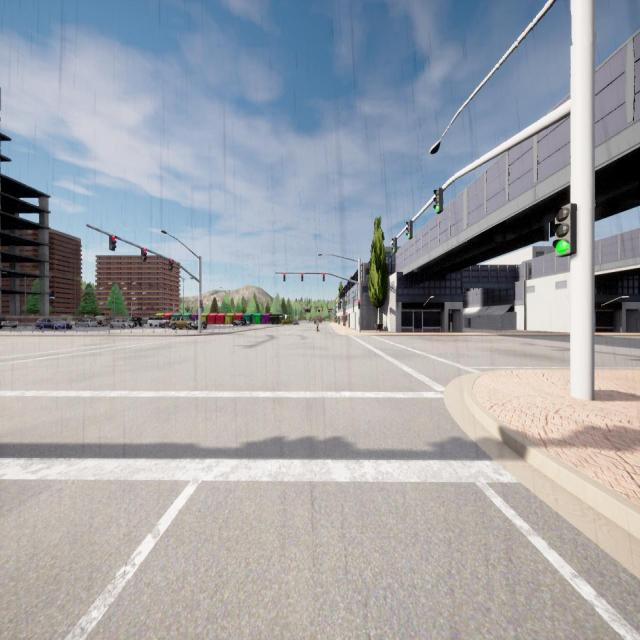Pedestrian: (315, 316, 320, 333)
Vehicle: (35, 316, 72, 330), (170, 316, 190, 330), (0, 316, 18, 329), (110, 318, 133, 328), (147, 317, 168, 327), (75, 317, 91, 328), (190, 320, 207, 330), (97, 316, 109, 328), (232, 318, 245, 326), (132, 317, 142, 327), (159, 321, 170, 328), (294, 320, 299, 325), (246, 320, 250, 326)
traffic_light: (552, 203, 577, 257), (433, 188, 443, 214), (406, 220, 413, 240), (109, 235, 117, 251), (391, 237, 397, 253), (141, 248, 147, 261), (168, 259, 174, 271), (200, 300, 203, 308), (301, 272, 303, 282), (323, 272, 325, 282), (358, 300, 360, 309), (283, 273, 285, 281)
